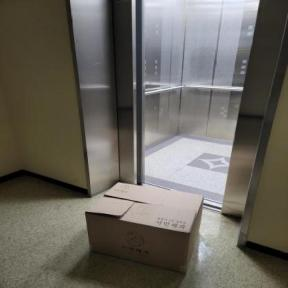box: (80, 172, 214, 280)
